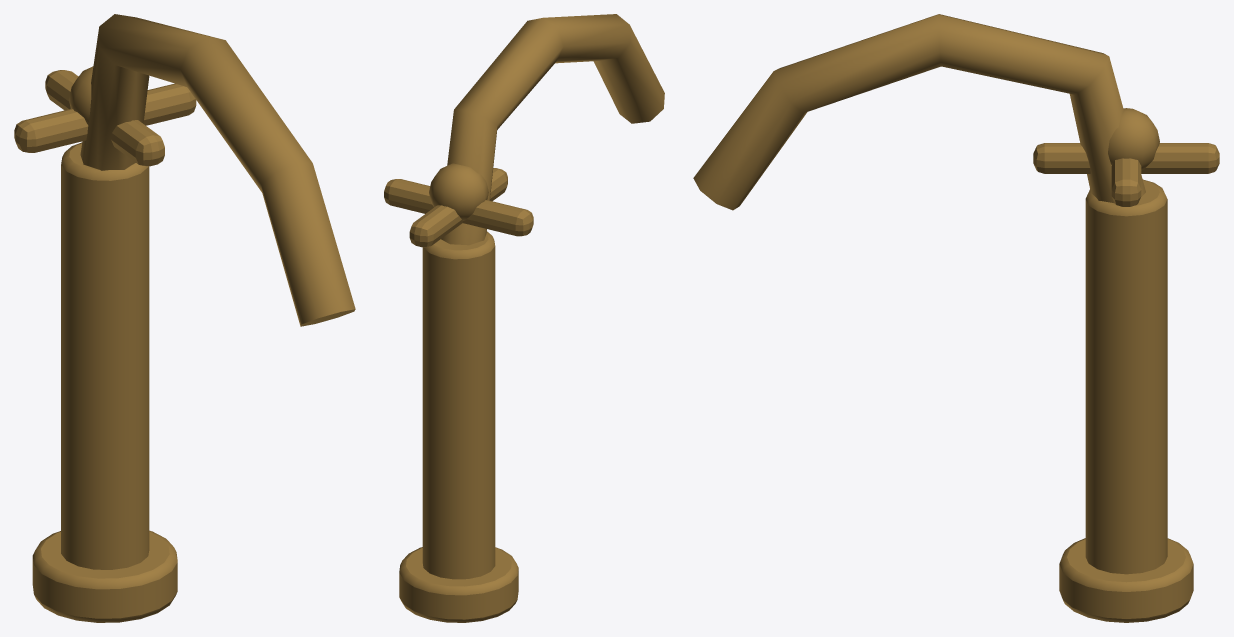
The model's file is Voi.glb.
The picture shows the model from 3 angles, left to right: view 1: azimuth 30°, elevation 25°; view 2: azimuth 150°, elevation 25°; view 3: azimuth 270°, elevation 25°; orthographic projection. The views are drawn at different scales.
Parts seen in each view (by area): view 1: geometry_0; view 2: geometry_0; view 3: geometry_0.
Boxes of the visible parts, x1,y1,x2,y2 form: geometry_0: (14,14,355,622); geometry_0: (384,14,664,622); geometry_0: (693,14,1219,622).
Size of the model in its own units: 0.05 by 0.1725 by 0.1412.
